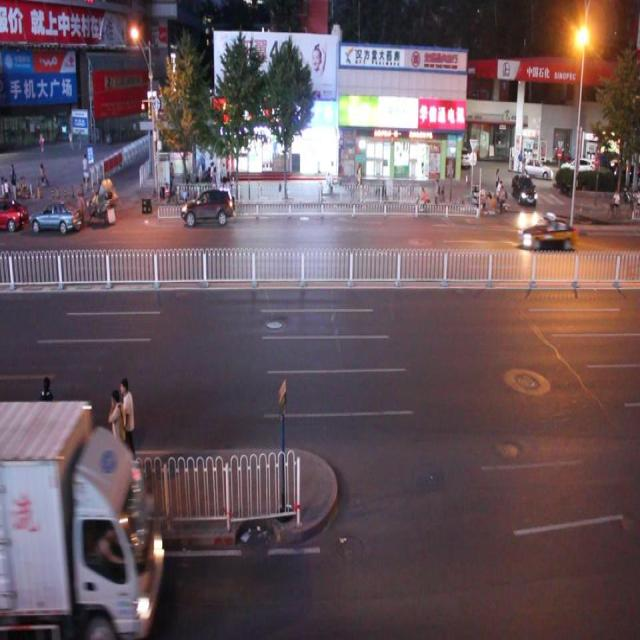bus: (1, 397, 163, 640)
car: (180, 188, 236, 230), (516, 211, 574, 251), (30, 199, 85, 238)
